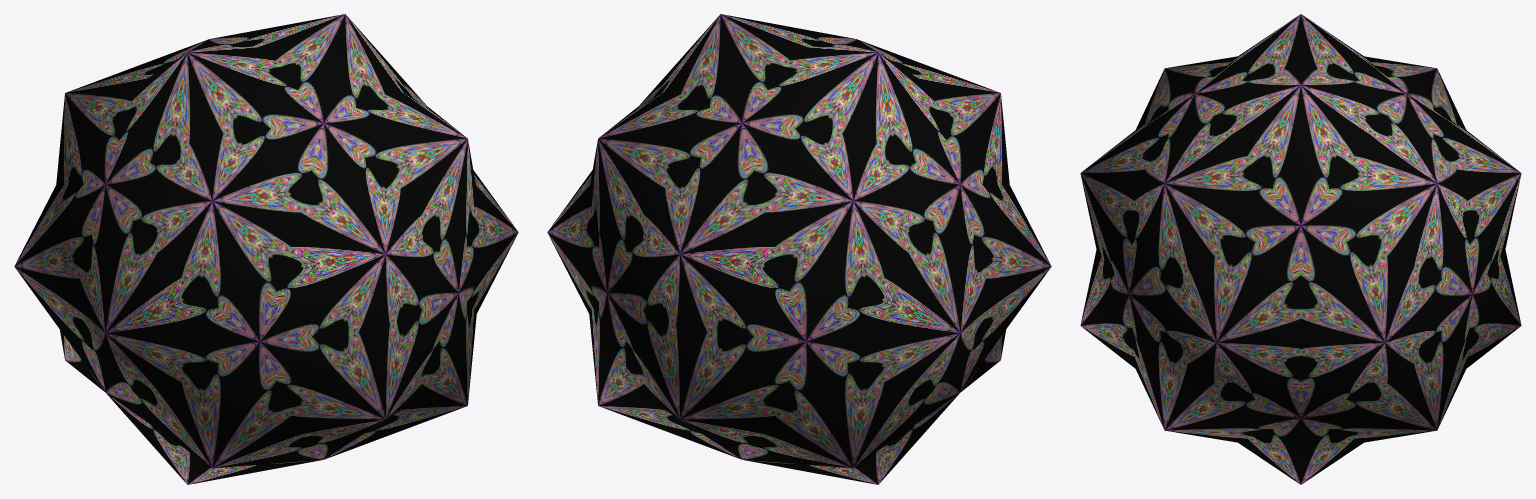
Rendered from 5SmallIcosacronicHexecontahedron.gltf.
3 views of the same model, side by side, from view 1: azimuth 30°, elevation 25°; view 2: azimuth 150°, elevation 25°; view 3: azimuth 270°, elevation 25° (orthographic). The views are drawn at different scales.
Visible parts, largest first — view 1: SmallIcosacronicHexecontahedron9; view 2: SmallIcosacronicHexecontahedron9; view 3: SmallIcosacronicHexecontahedron9.
Boxes of the visible parts, x1,y1,x2,y2 form: SmallIcosacronicHexecontahedron9: (14,14,518,484); SmallIcosacronicHexecontahedron9: (547,14,1051,484); SmallIcosacronicHexecontahedron9: (1080,14,1521,484).
Size of the model in its own units: 3.62 by 3.62 by 3.62.
Materials: 1 (1 with a texture image).
